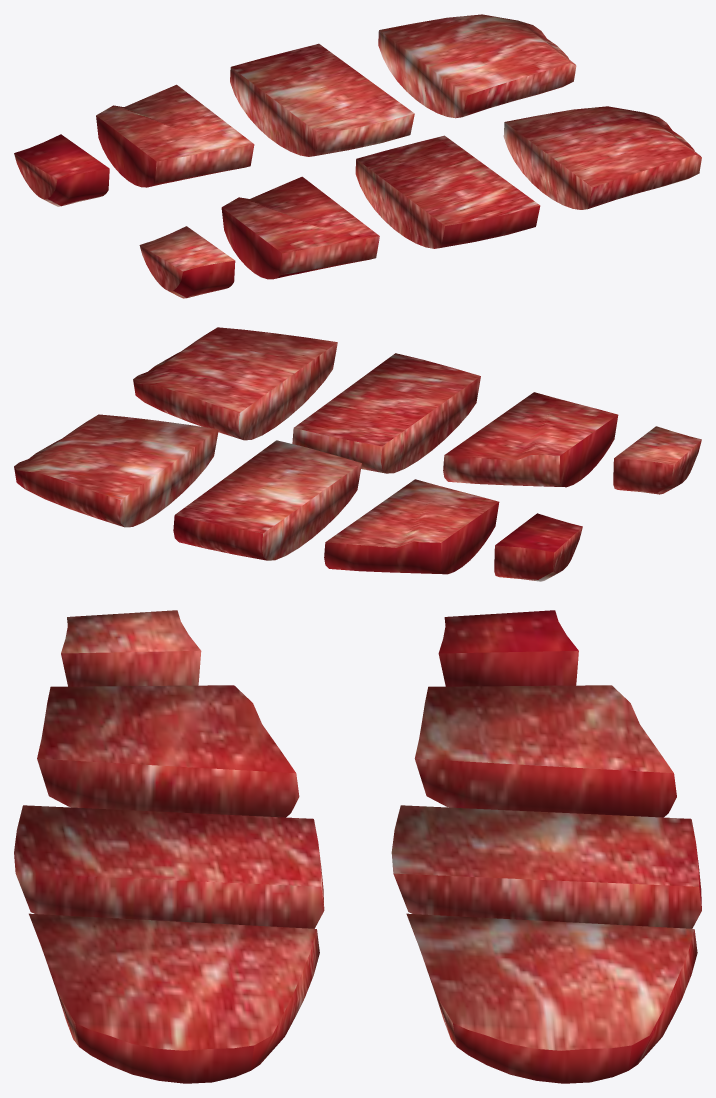
3 renders of one model, top to bottom at view 1: azimuth 30°, elevation 25°; view 2: azimuth 150°, elevation 25°; view 3: azimuth 270°, elevation 25°, orthographic. The views are drawn at different scales.
Parts seen in each view (by area): view 1: prototype.022; view 2: prototype.022; view 3: prototype.022.
Boxes of the visible parts, x1=… form: prototype.022: x1=14, y1=14, x2=701, y2=298; prototype.022: x1=14, y1=327, x2=701, y2=581; prototype.022: x1=14, y1=610, x2=701, y2=1083.
Size of the model in its own units: 504 by 48.69 by 364.
